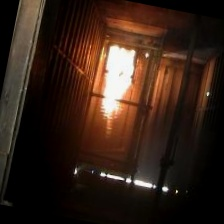fire: (88, 38, 147, 134)
